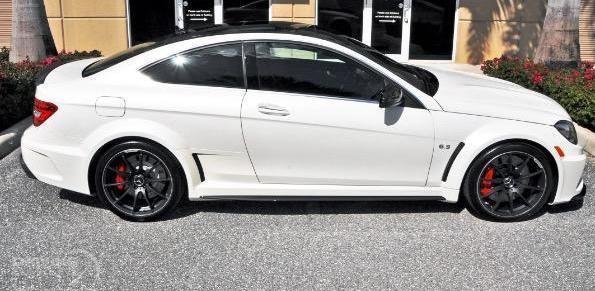C63AMG: (18, 22, 590, 227)
